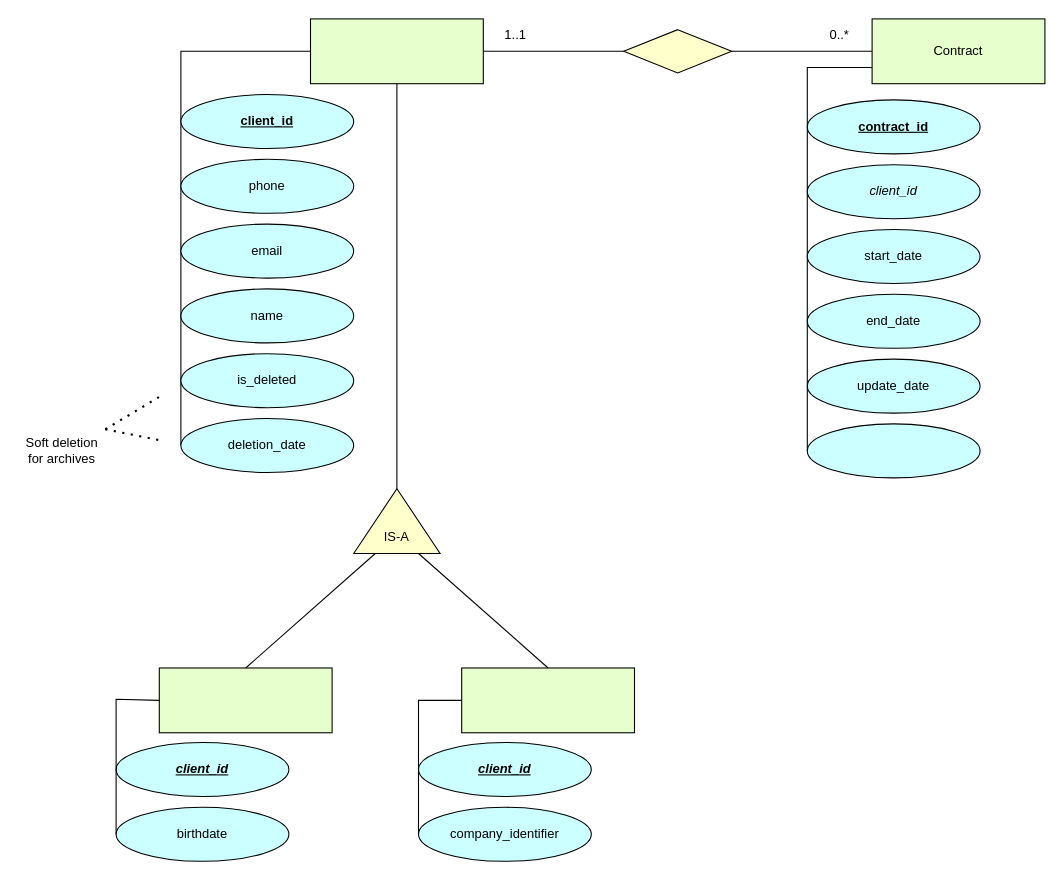
The diagram is 1064 pixels wide and 880 high, and some of its shapes have lost their labels. The centre of each missing label's shape, as x and y in pixels:
"Client" belongs at point (396, 51).
"Company" belongs at point (547, 700).
"cost_amount" belongs at point (893, 450).
"Person" belongs at point (245, 700).
"sign" belongs at point (677, 51).
